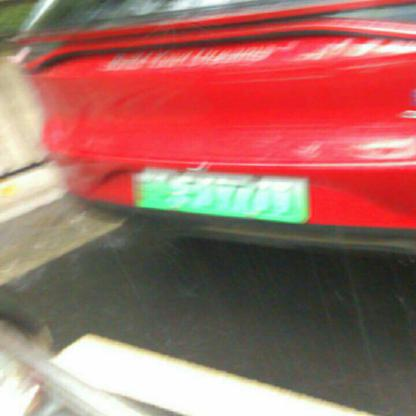lp: (132, 168, 305, 221)
